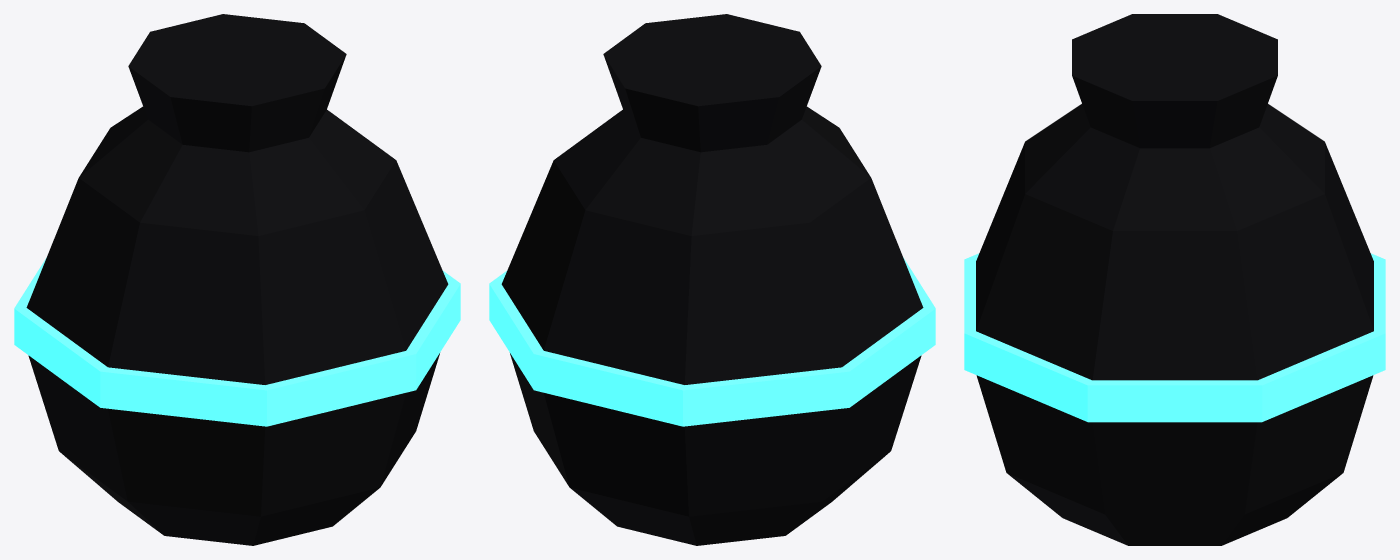
Rendered from SM_Artifact_Vessel.glb.
3 renders of one model, left to right at view 1: azimuth 30°, elevation 25°; view 2: azimuth 150°, elevation 25°; view 3: azimuth 270°, elevation 25°, orthographic.
Visible parts, largest first — view 1: SM_Artifact_Vessel; view 2: SM_Artifact_Vessel; view 3: SM_Artifact_Vessel.
Boxes of the visible parts, box(x1,y1,x2,y2) form: SM_Artifact_Vessel: box(14, 14, 460, 545); SM_Artifact_Vessel: box(489, 14, 935, 545); SM_Artifact_Vessel: box(964, 14, 1385, 545).
Size of the model in its own units: 0.4157 by 0.48 by 0.4157.
1 material, 1 textured.
